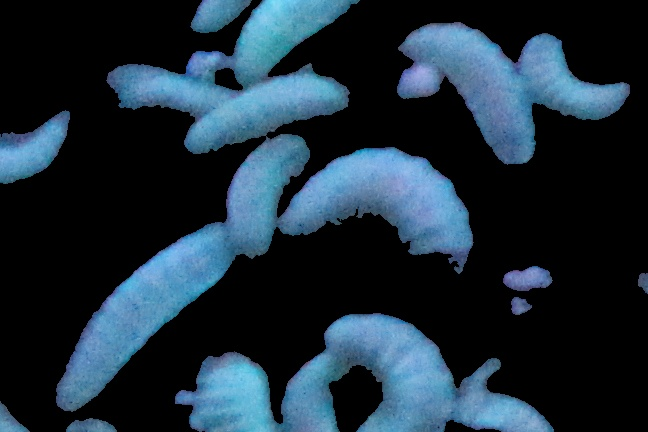larvae: (59, 221, 223, 407), (279, 145, 473, 261), (402, 19, 537, 169), (325, 312, 455, 432), (182, 76, 350, 157), (523, 28, 628, 127), (232, 2, 356, 83), (228, 133, 286, 266), (193, 351, 280, 432), (106, 64, 219, 112), (1, 107, 70, 185), (289, 357, 351, 432), (185, 1, 253, 30)
